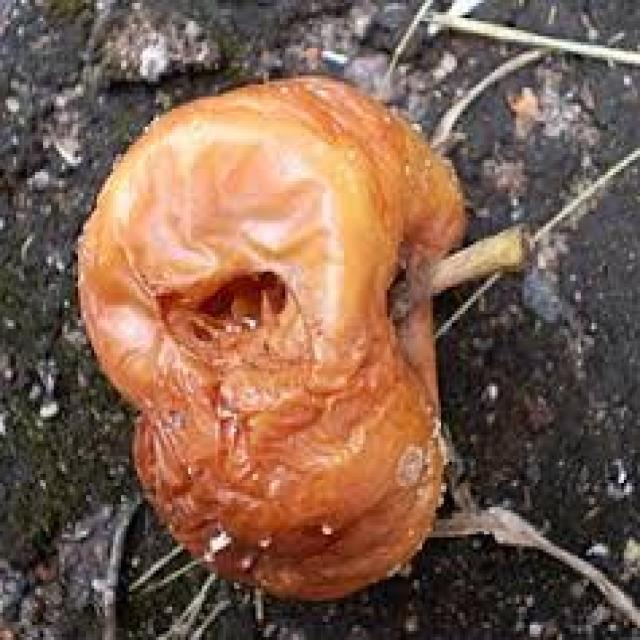organic waste: (73, 72, 535, 598)
